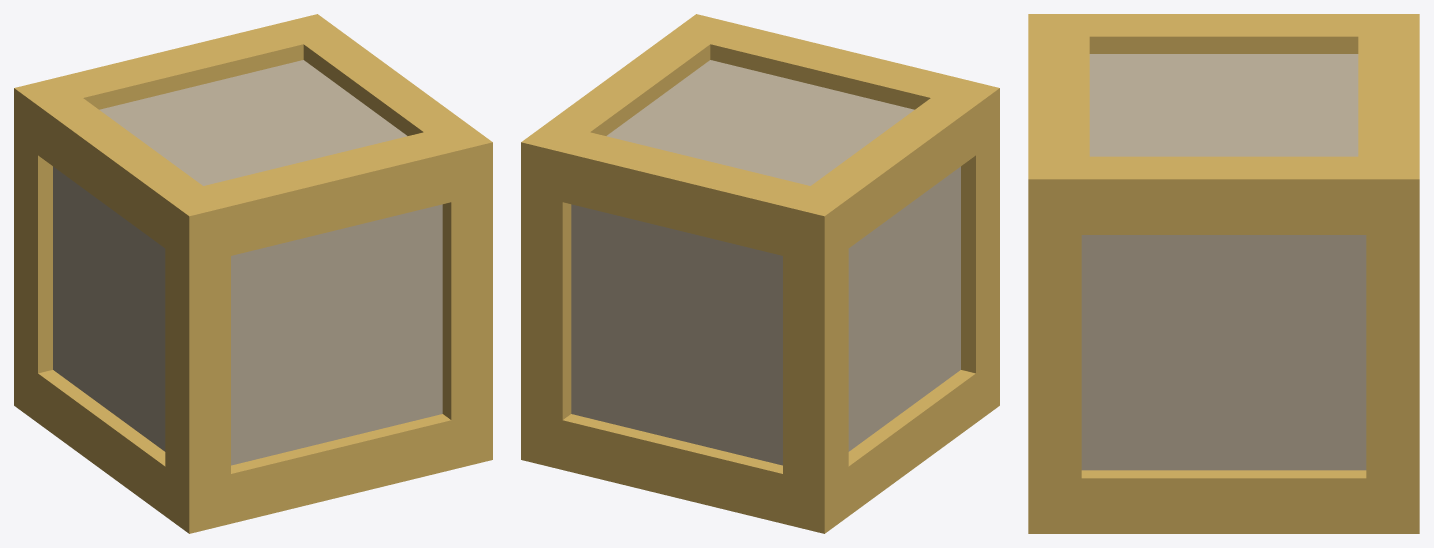
The model's file is Crate.fbx.
3 renders of one model, left to right at view 1: azimuth 30°, elevation 25°; view 2: azimuth 150°, elevation 25°; view 3: azimuth 270°, elevation 25°, orthographic. The views are drawn at different scales.
Visible parts, largest first — view 1: Crate; view 2: Crate; view 3: Crate.
Boxes of the visible parts, bbox=[...] form: Crate: bbox=[14, 14, 492, 533]; Crate: bbox=[521, 14, 999, 533]; Crate: bbox=[1028, 14, 1419, 533].
Bounding box in the file's own units: 22.5 × 22.5 × 22.5.
